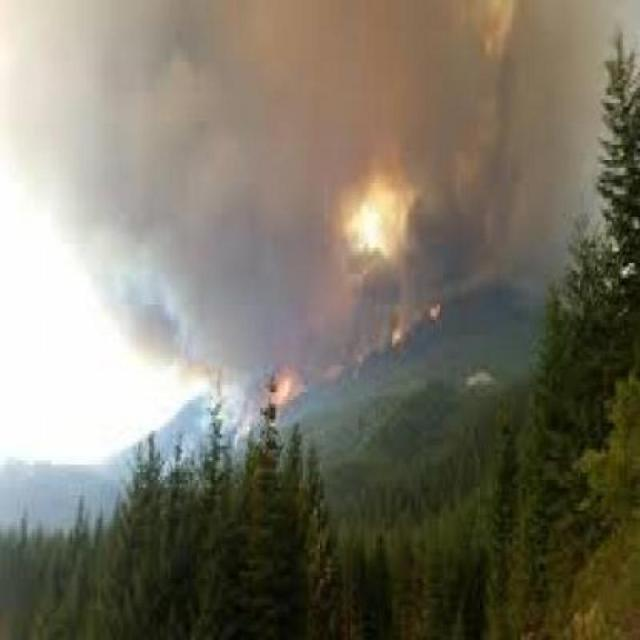Fire: (350, 182, 440, 344), (264, 348, 306, 427)
Smoke: (452, 132, 640, 338), (311, 274, 354, 418)
